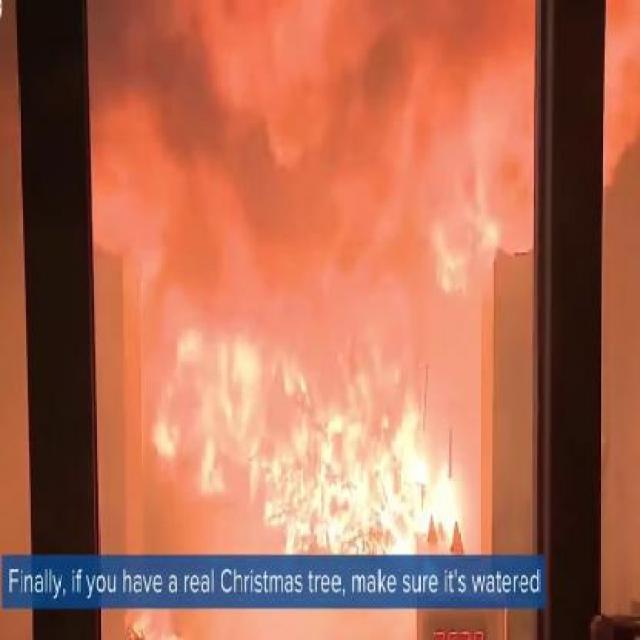fire: (213, 362, 464, 553)
smoke: (80, 1, 211, 138)
